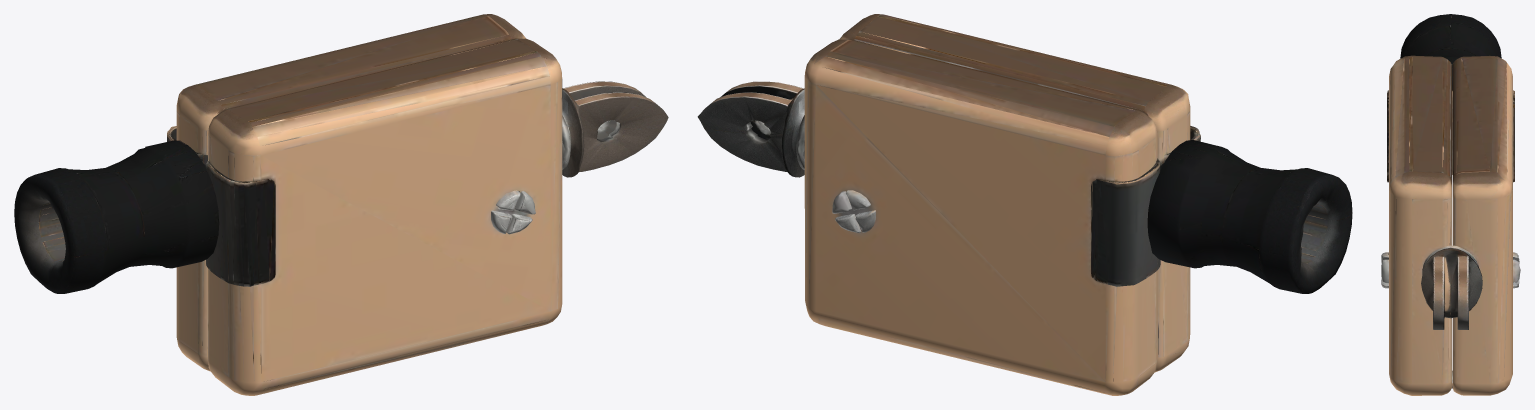
The model's file is knife-switch.glb.
3 views of the same model, side by side, from view 1: azimuth 30°, elevation 25°; view 2: azimuth 150°, elevation 25°; view 3: azimuth 270°, elevation 25° (orthographic). The views are drawn at different scales.
Size of the model in its own units: 0.9575 by 0.4136 by 0.2299.
1 material, 1 textured.
